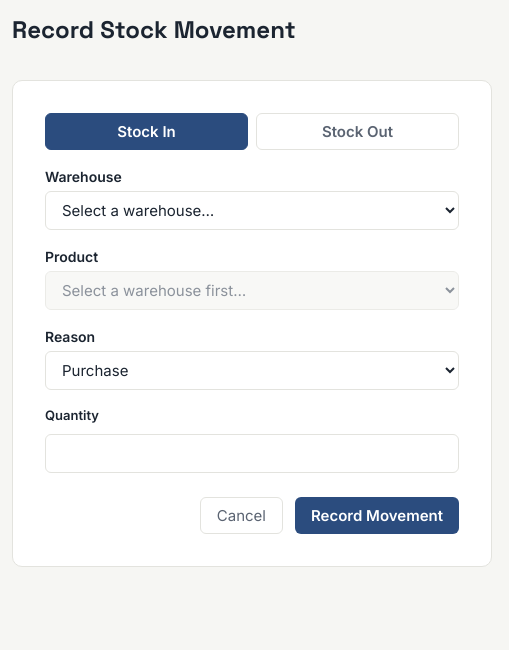
Test: TransactionForm › rejects a stock-out quantity greater than current stock (client-side pre-check)
Check: the heading "Record Stock Movement" is shown, box 12,14 -> 296,45
Select "Main Warehouse" in the dropdown labelled "Warehouse". click: (252, 210)
box: 45,191 -> 459,230
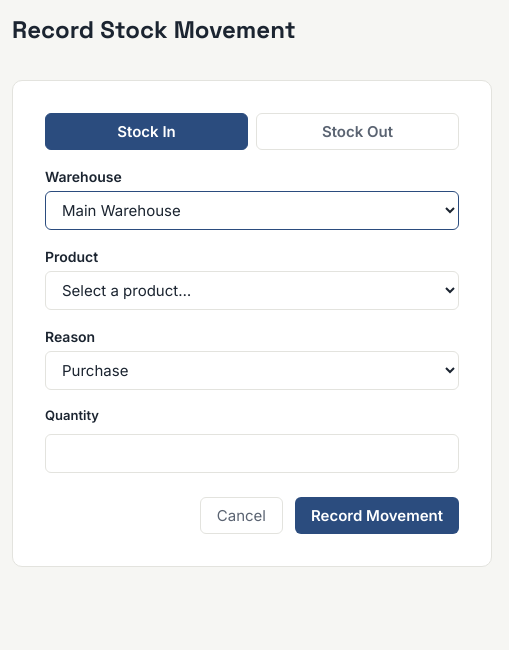
Select "Wireless Mouse (WM-001) — 20 in stock" in the dropdown labelled "Product". click: (252, 290)
box: 45,271 -> 459,310
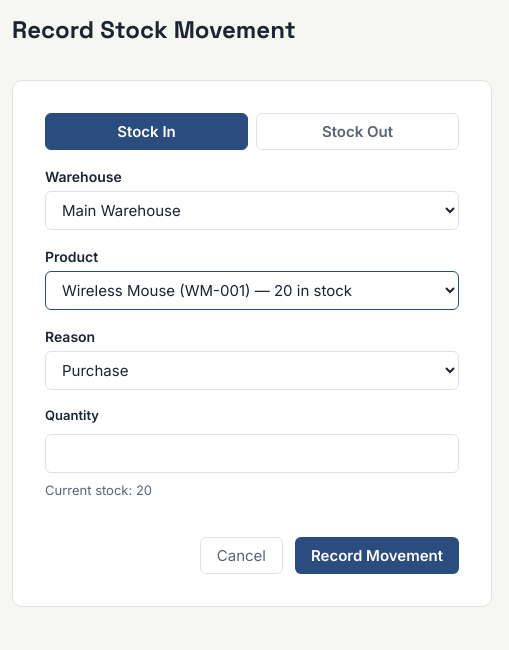
Click the radio button labelled "Stock Out". click: (358, 132)
box: 256,113 -> 459,150
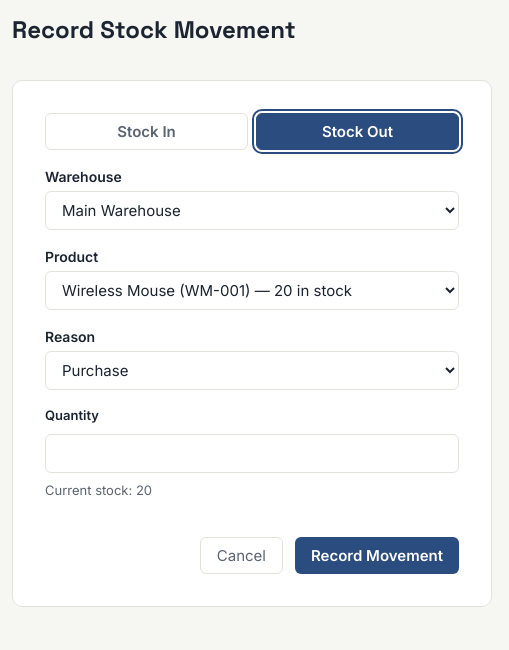
Type "999" into the field labelled "Quantity". click: (252, 453)
box: 45,434 -> 459,472
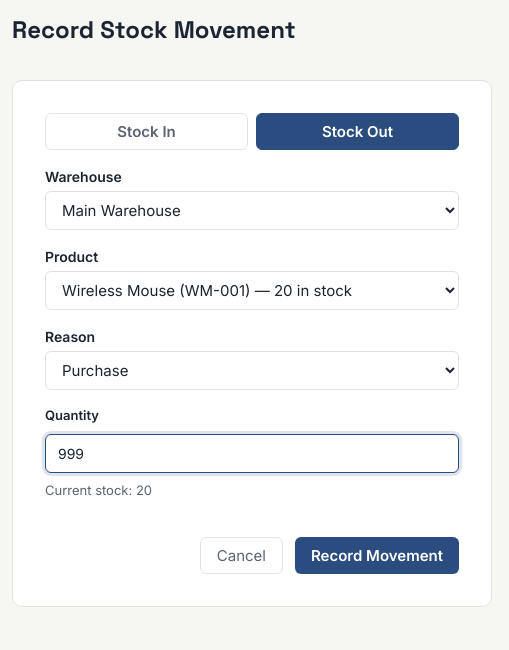
Click the button "Record Movement". click: (377, 556)
box: 295,537 -> 459,574
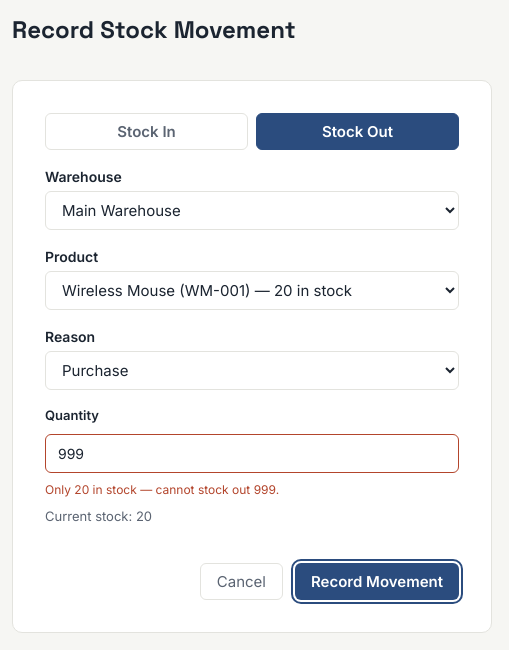
Check: the text "Only 20 in stock — cannot stock out 999." is shown, box 45,482 -> 279,496
